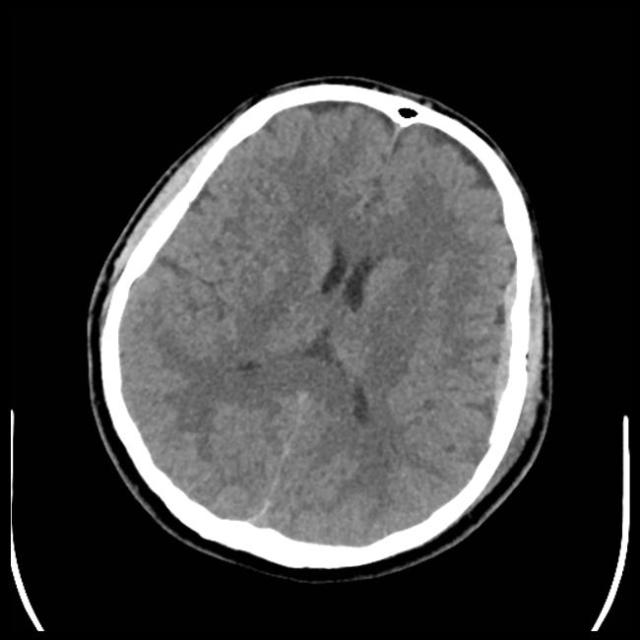lesion: (89, 78, 553, 573)
